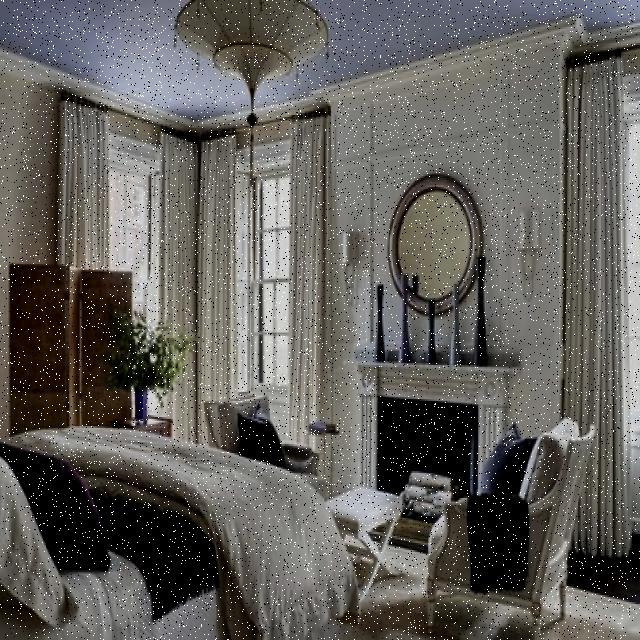bed: (0, 422, 342, 640)
